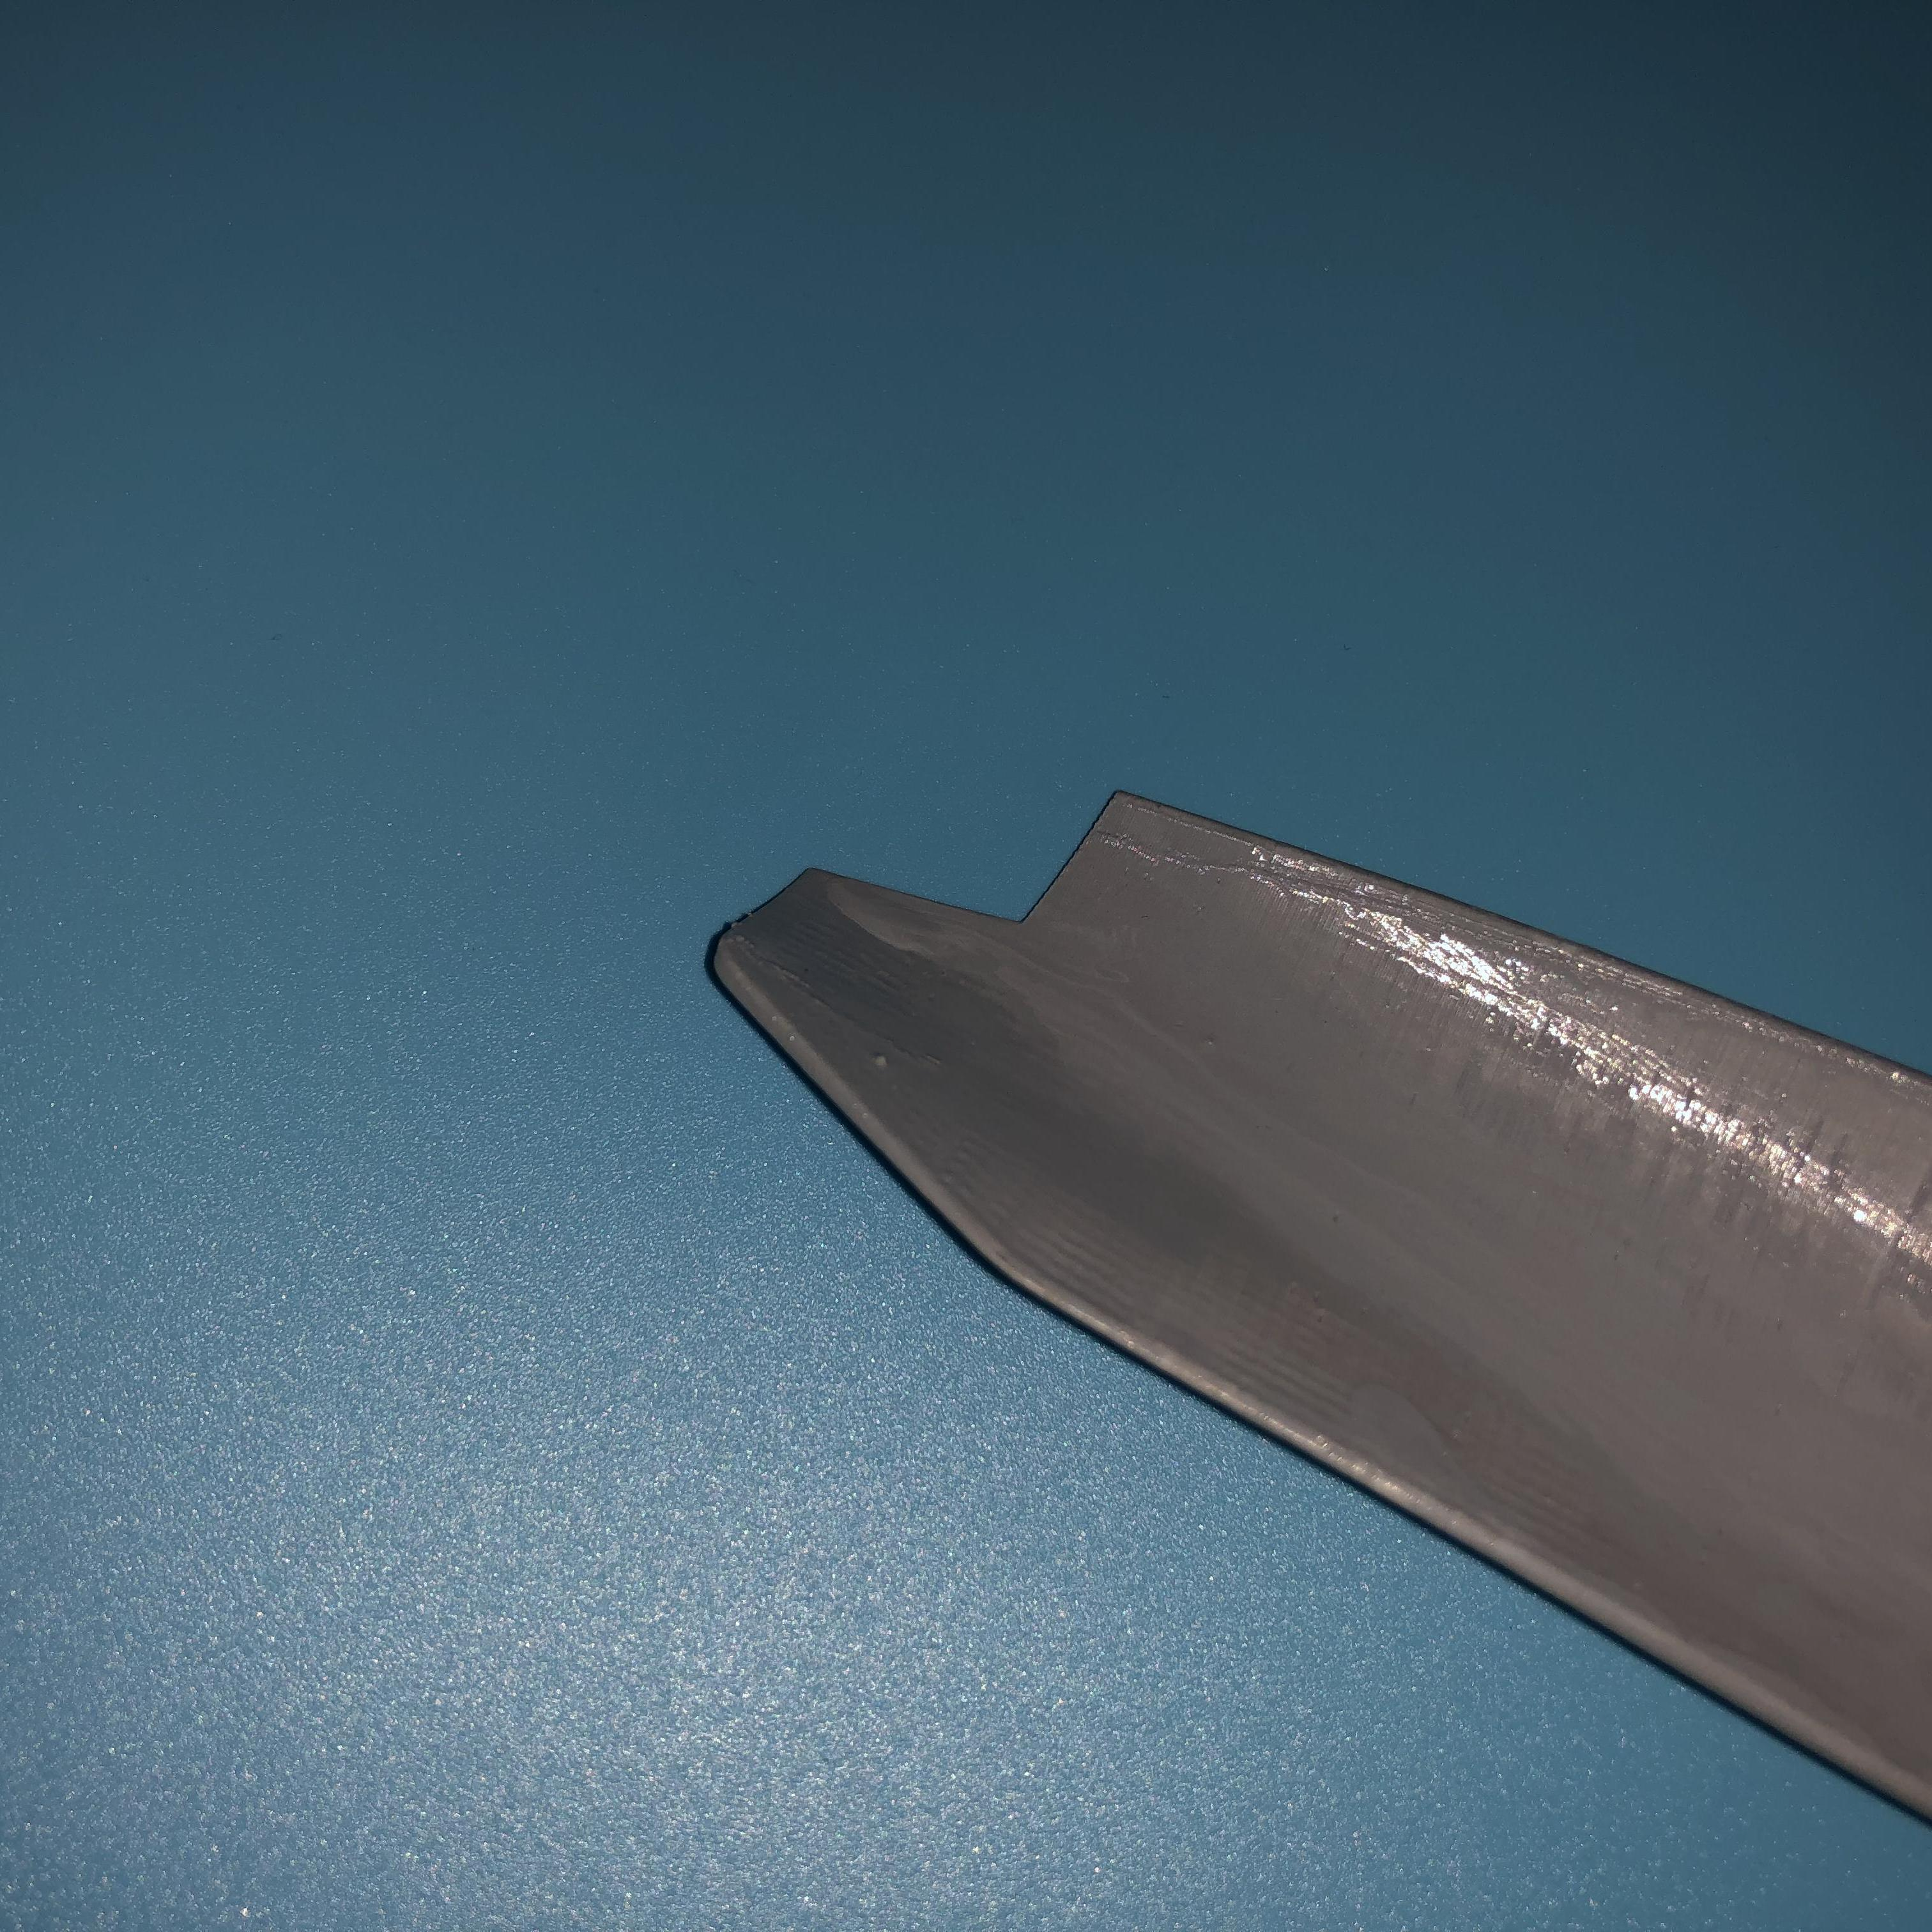fracture: (810, 791, 1164, 927)
